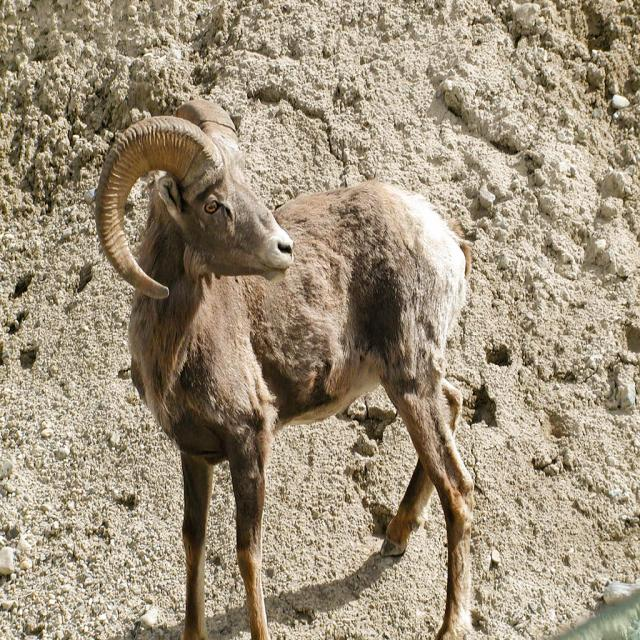Sheep: (94, 100, 475, 640)
